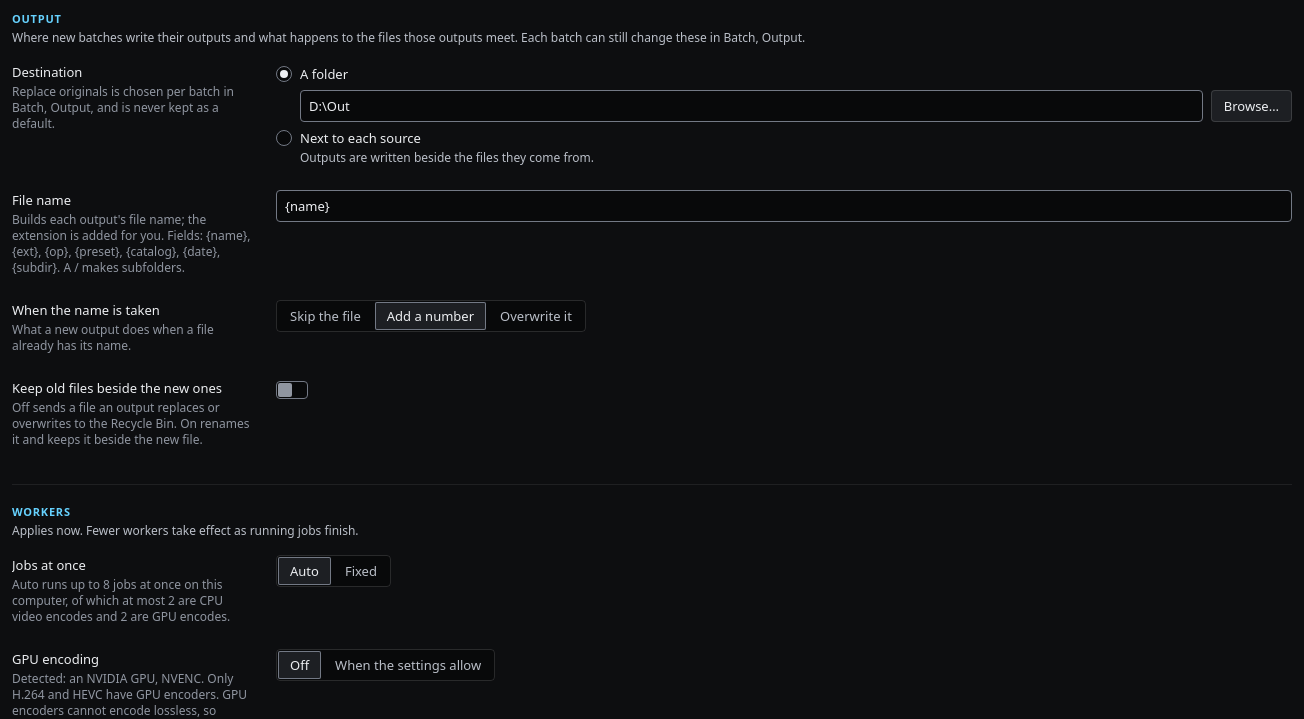
Test case: BatchSettings › shows a refused policy beside its field
The image size is (1304, 719).
Click the radio button labelled "Skip the file": coordinates (325, 316) [278,302,373,330]
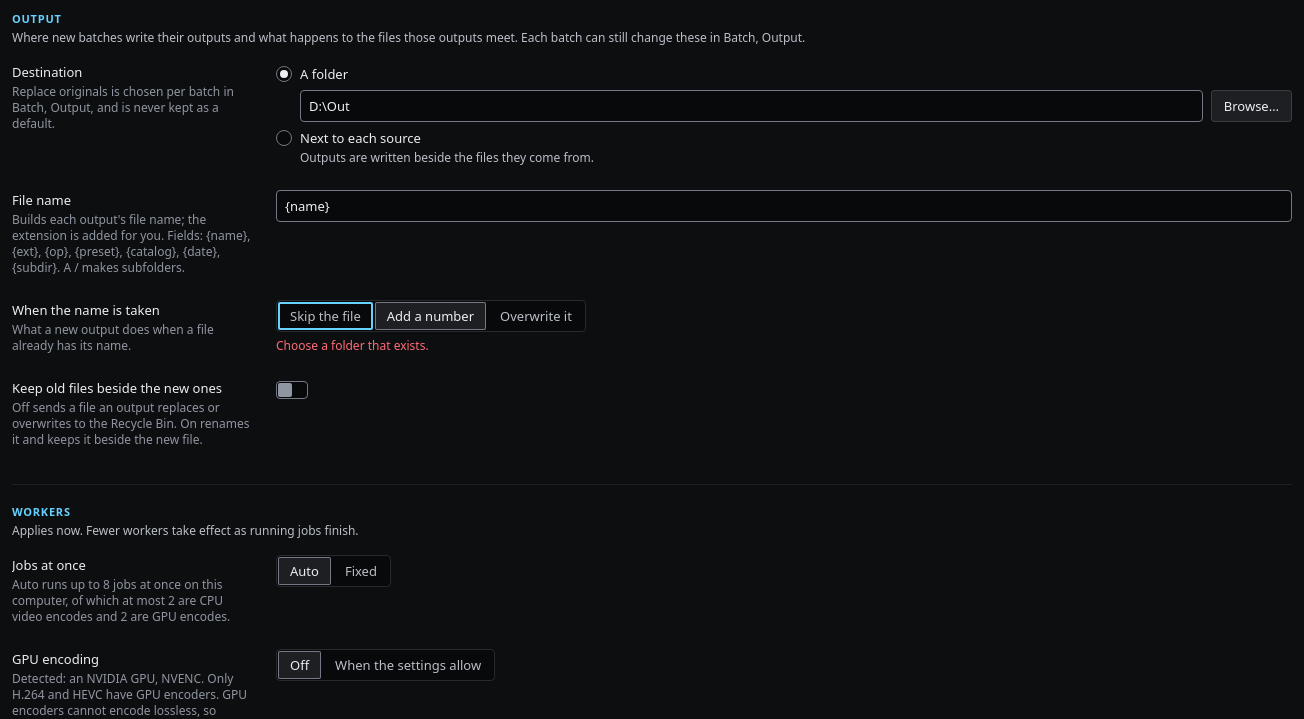
Check: the message reads "Choose a folder that exists.", box [276,337,429,354]
